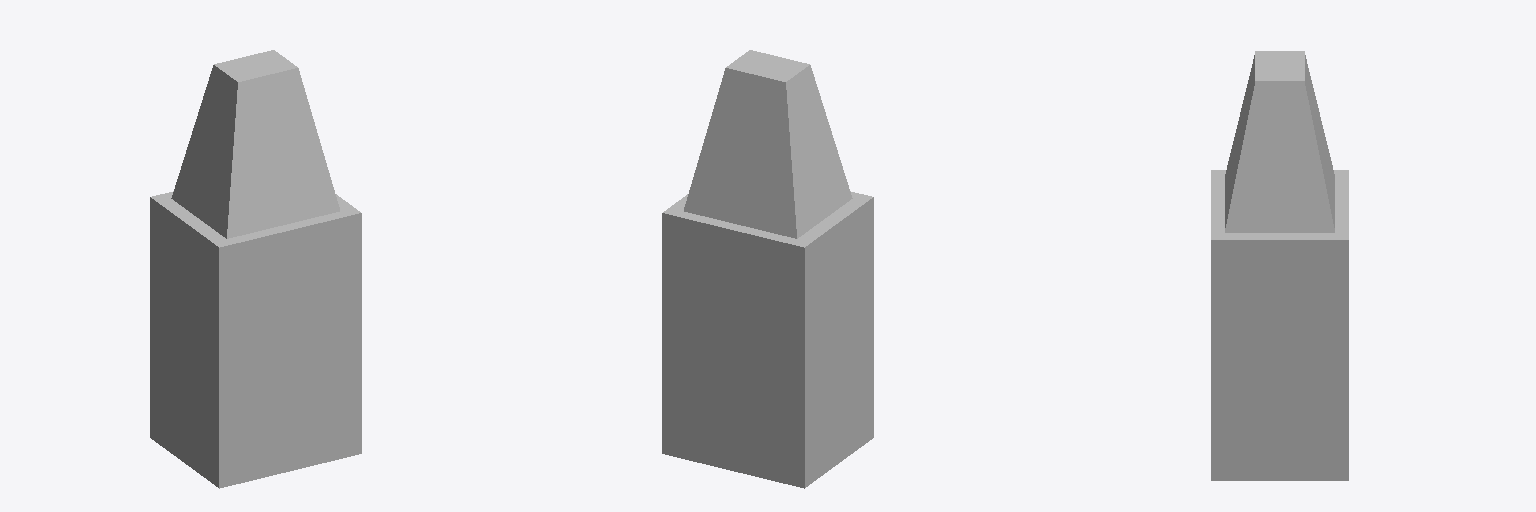
File: buildings009 (428).obj
3 renders of one model, left to right at view 1: azimuth 30°, elevation 25°; view 2: azimuth 150°, elevation 25°; view 3: azimuth 270°, elevation 25°, orthographic.
Parts seen in each view (by area): view 1: buildings009 (428); view 2: buildings009 (428); view 3: buildings009 (428).
Boxes of the visible parts, <box> form: buildings009 (428): <box>150,50,361,488</box>; buildings009 (428): <box>662,50,873,488</box>; buildings009 (428): <box>1211,51,1348,480</box>.
Bounding box in the file's own units: 10.3 × 26.27 × 8.68.